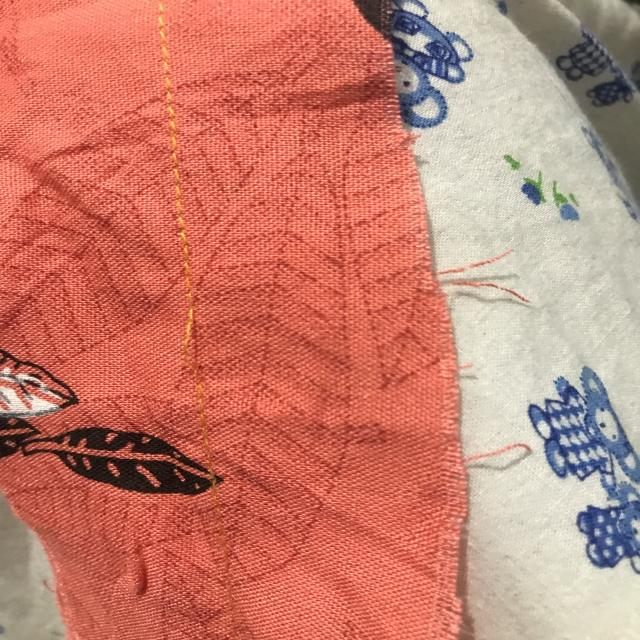good: (158, 154, 200, 241)
skip: (148, 292, 225, 382)
